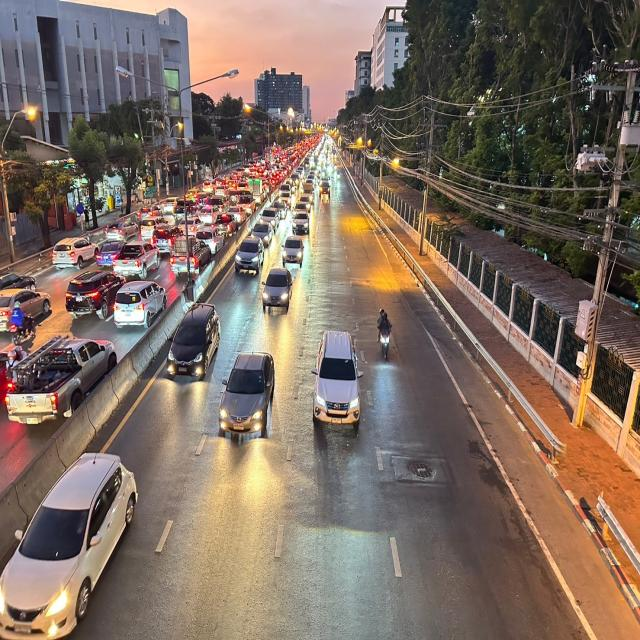bike: (372, 302, 394, 366)
car: (0, 436, 135, 640)
